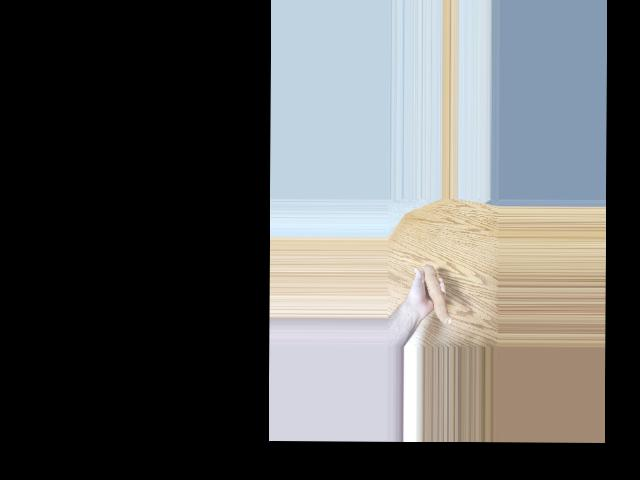sweet_potato: (421, 264, 451, 326)
